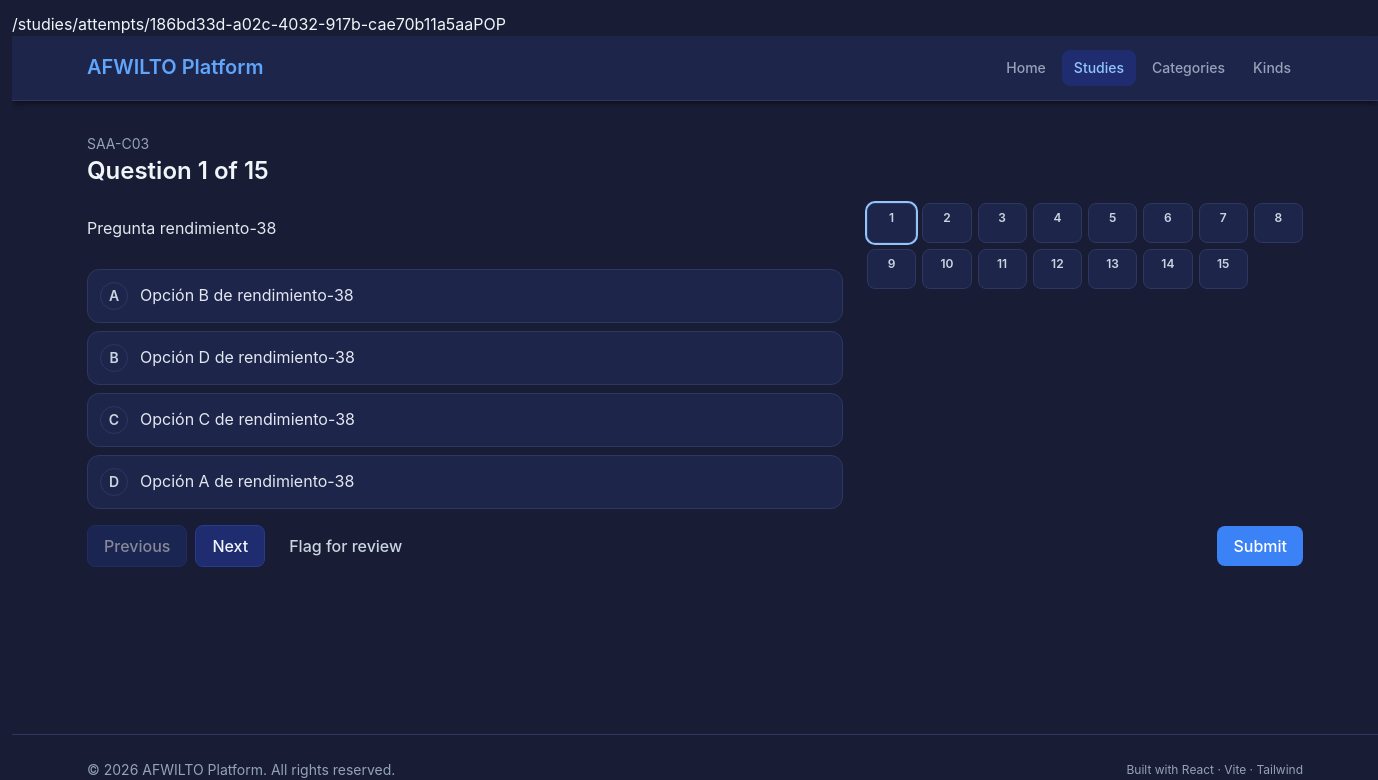
Test: RunnerPage: moving around and the URL (S09-7) › Next and Previous move between questions and keep the position in ?q=
The image size is (1378, 780).
Expected: the heading "Question 1 of 15" is shown, [87,154,269,187]
Expected: the button "Previous" is disabled, [87,525,187,567]
Click the button "Next" at [230, 546], box [195,525,265,567]
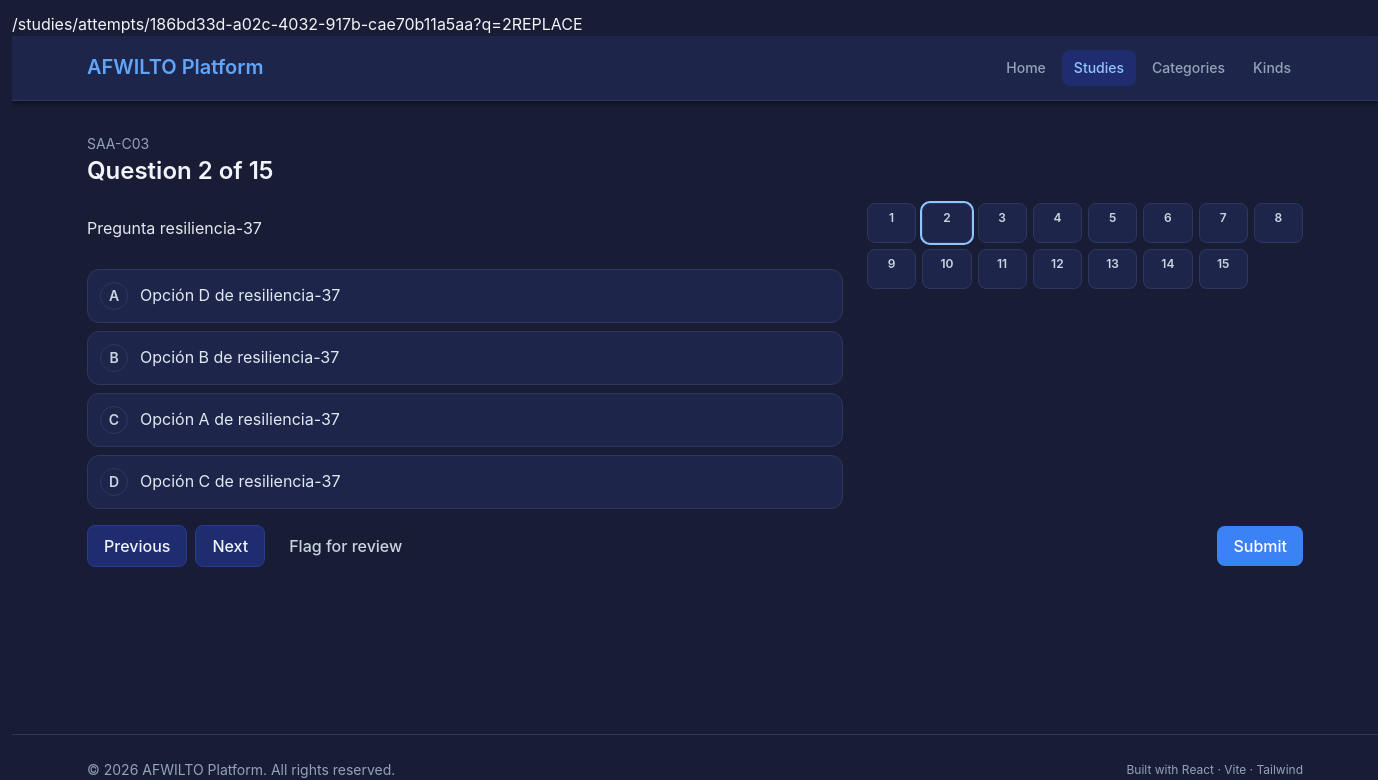
Expected: the heading "Question 2 of 15" is shown, [87,154,274,187]
Expected: the text with test id "location" shows "?q=2", [12,14,512,34]
Click the button "Previous" at [137, 546], box [87,525,187,567]
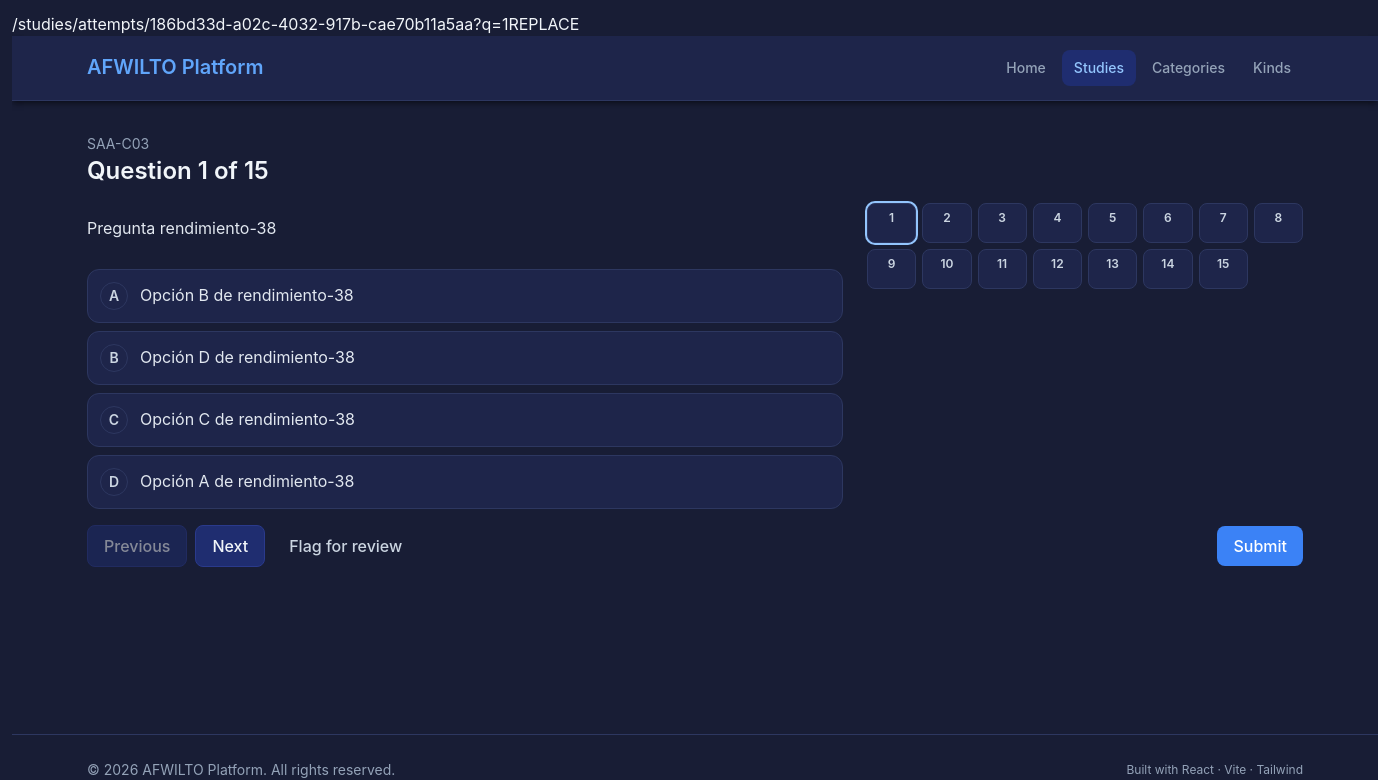
Expected: the heading "Question 1 of 15" is shown, [87,154,269,187]
